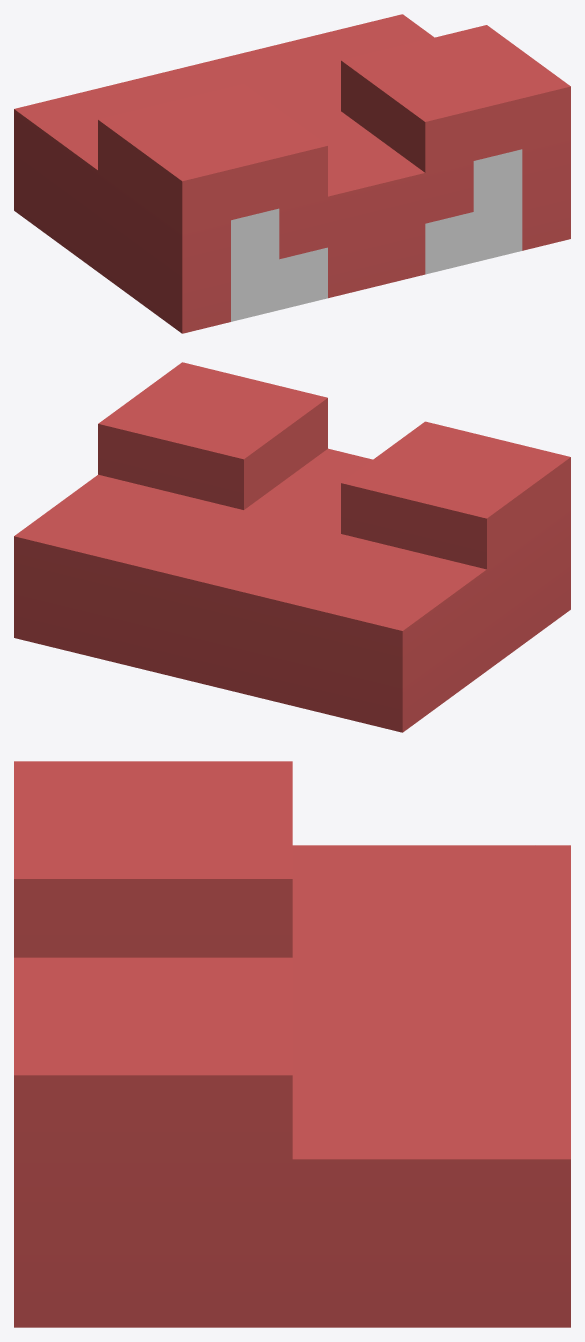
Rendered from PartB.fbx.
3 renders of one model, top to bottom at view 1: azimuth 30°, elevation 25°; view 2: azimuth 150°, elevation 25°; view 3: azimuth 270°, elevation 25°, orthographic. The views are drawn at different scales.
Parts seen in each view (by area): view 1: PartB; view 2: PartB; view 3: PartB.
Boxes of the visible parts, x1,y1,x2,y2 form: PartB: (14,14,570,333); PartB: (14,362,570,732); PartB: (14,761,570,1327).
Size of the model in its own units: 80 by 30 by 60.
